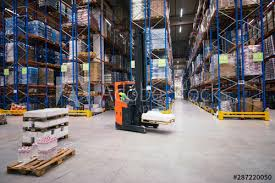Pallet Jack: (112, 27, 176, 135)
